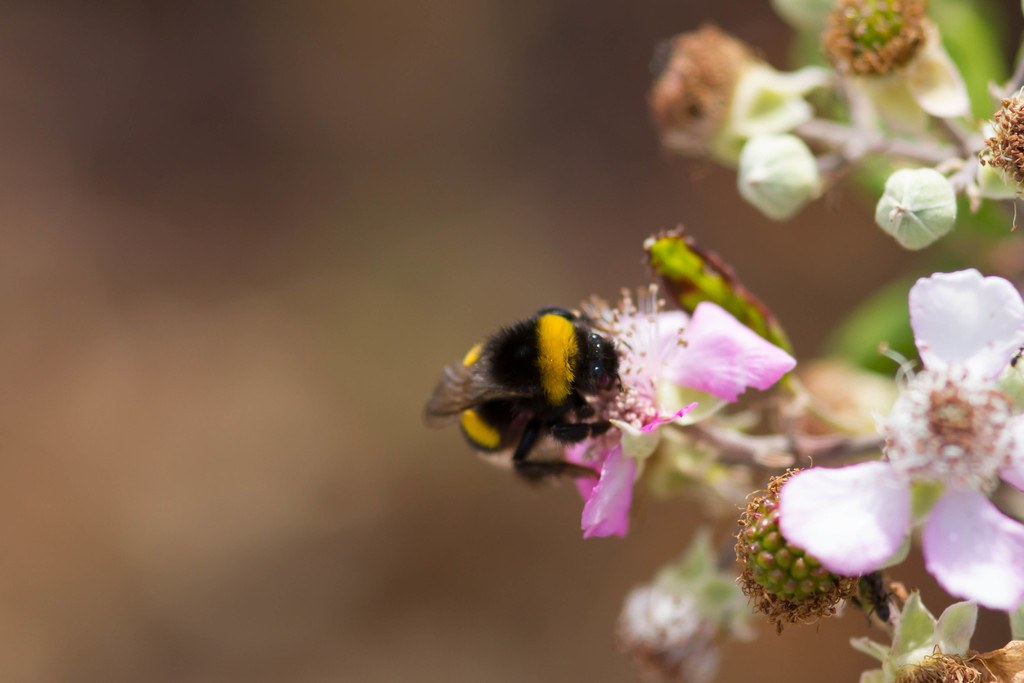bee: (420, 301, 632, 486)
insect: (769, 268, 1023, 606), (548, 303, 803, 543)
